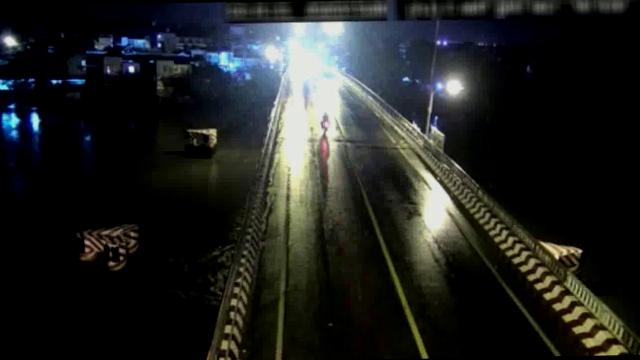Bike: (322, 110, 332, 132)
